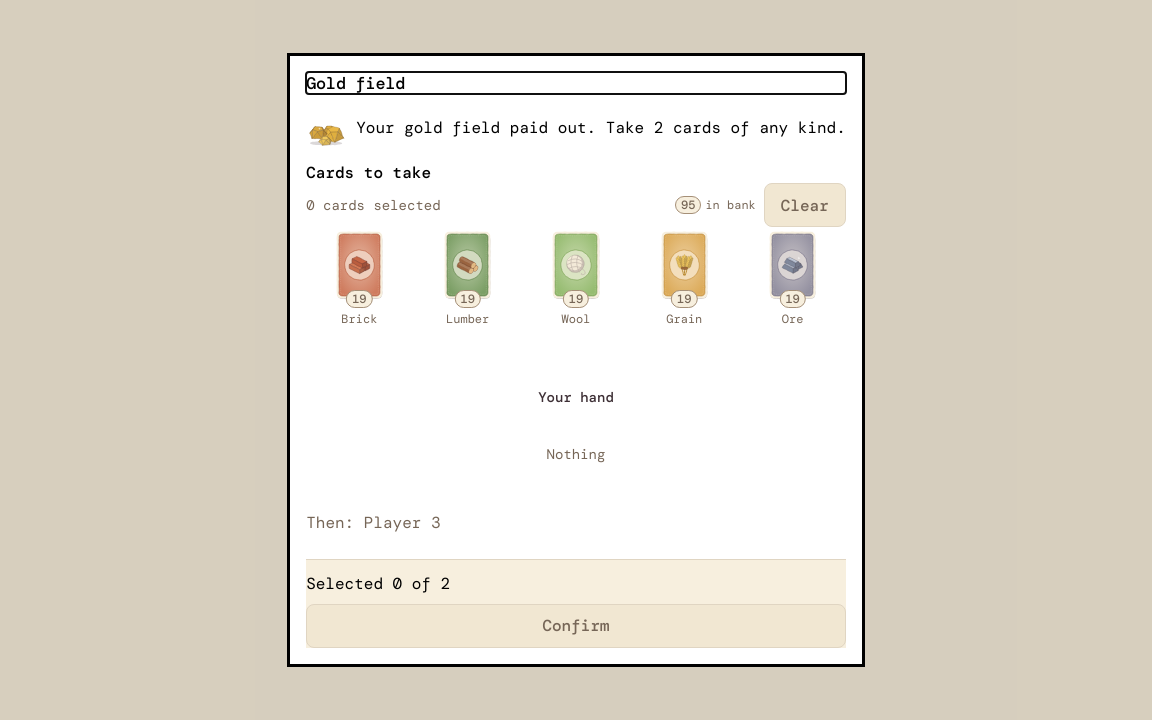
Test: gold choice › a rejected choice is explained instead of submitted
Click the button named "Add Ore to Cards to take": (793, 278) [740,227,846,329]
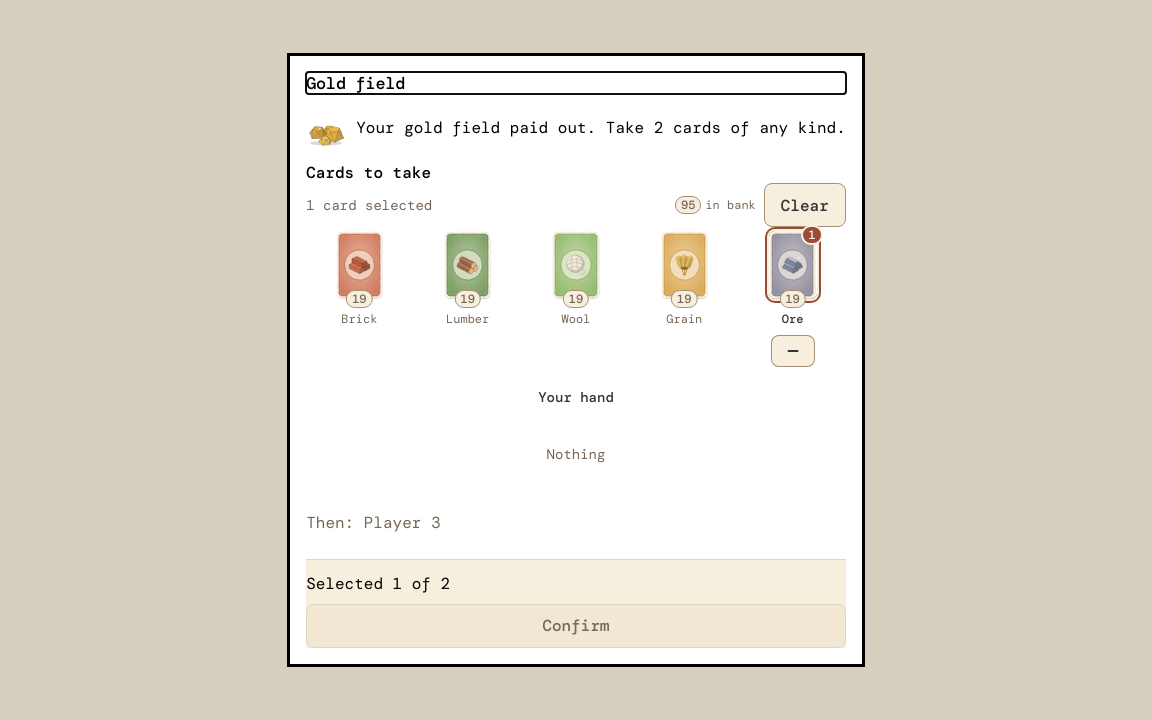
Click the button named "Add Ore to Cards to take": (793, 278) [740,227,846,329]
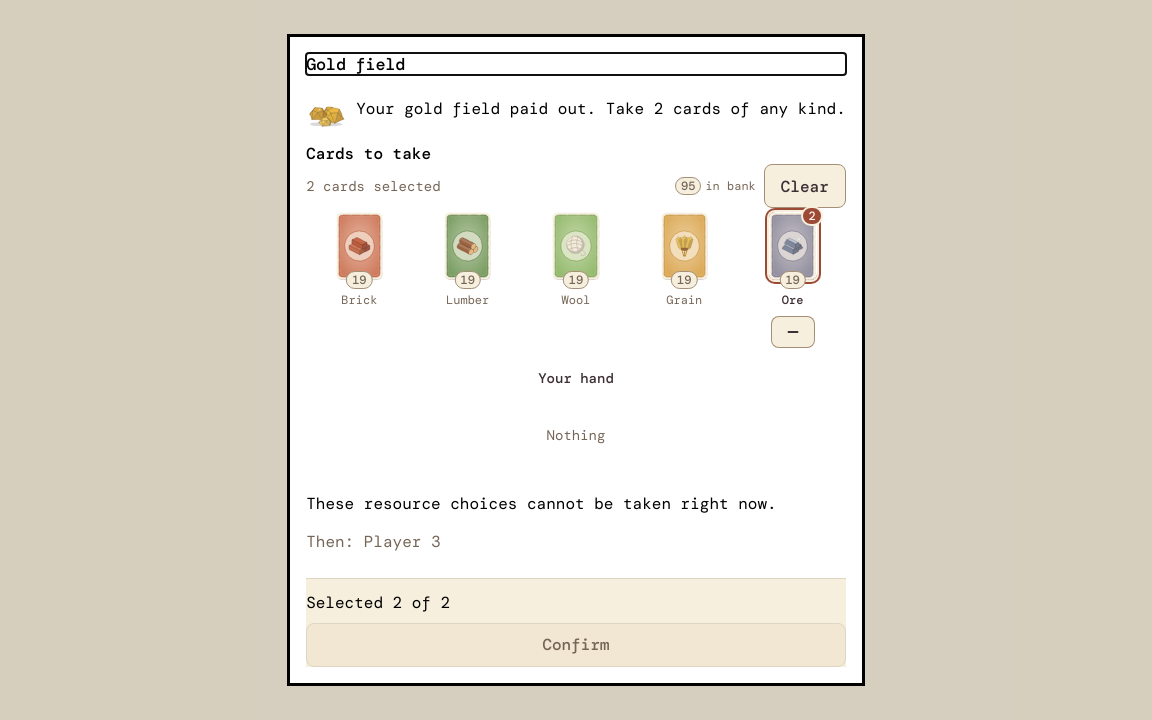
expect the button "Confirm" is disabled: met, box [306,623,846,667]
expect the message shows "cannot be taken right now": met, box [306,493,777,514]
